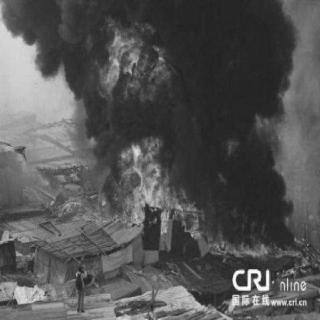Fire: (205, 136, 241, 252)
Smoke: (102, 99, 256, 133)
